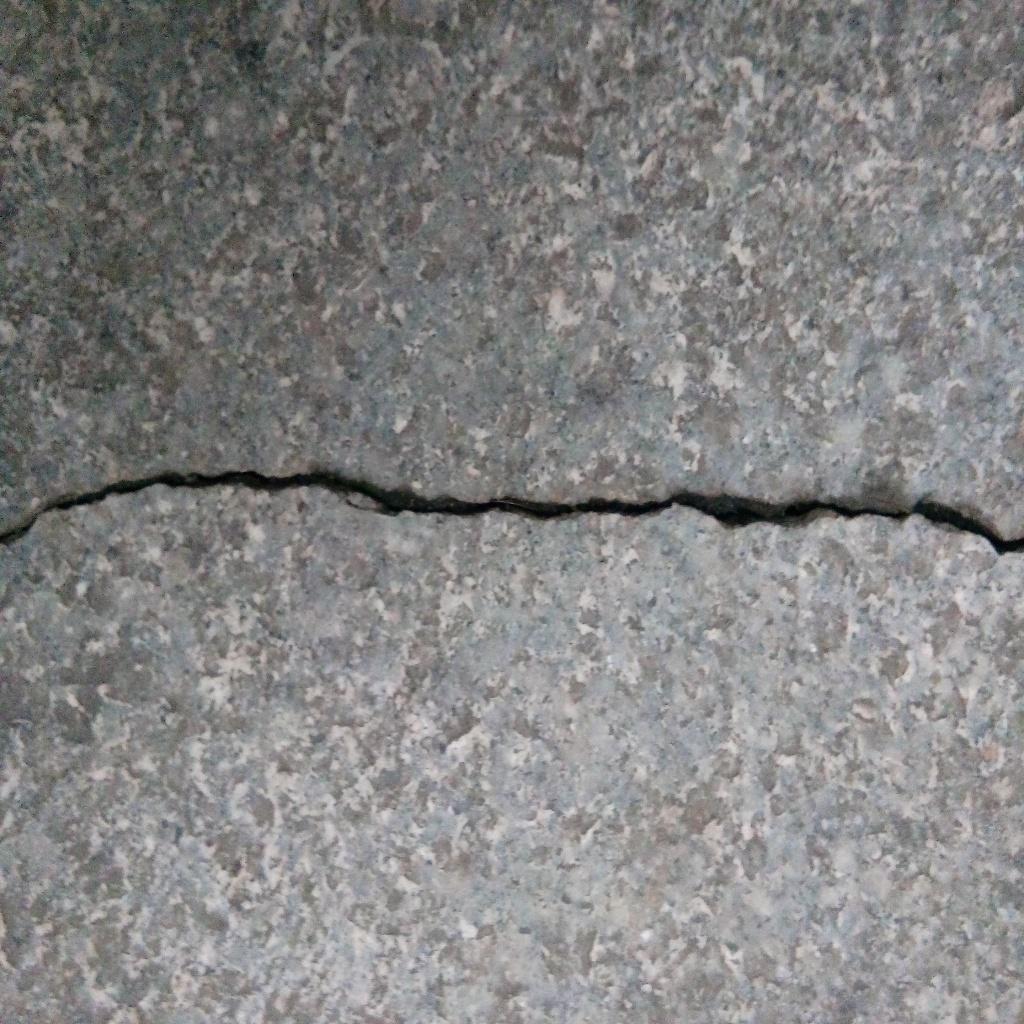Crack: (1, 467, 1024, 558)
